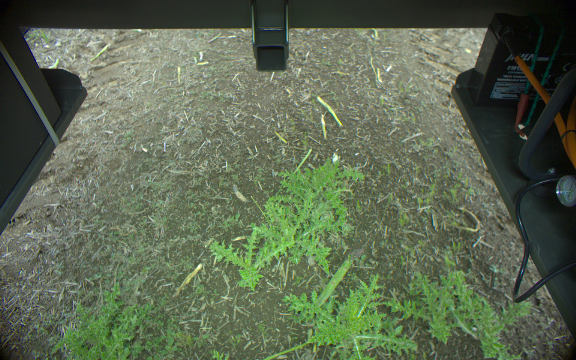aspa: (312, 246, 363, 310)
